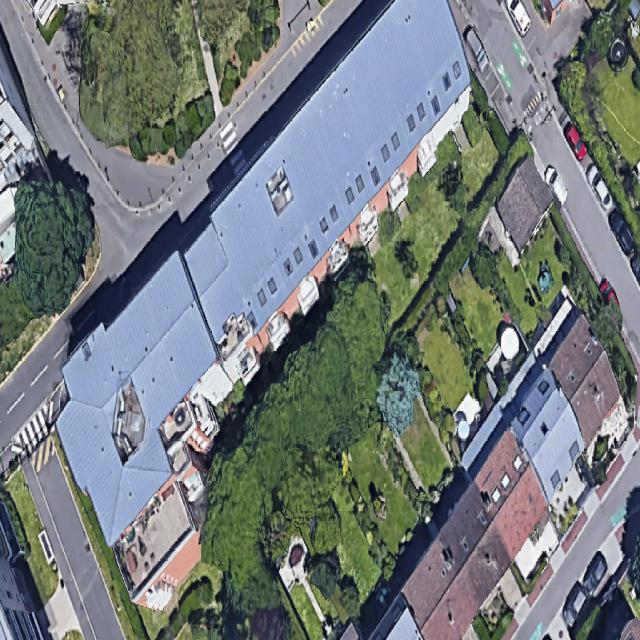immeuble: (140, 0, 513, 354), (9, 228, 245, 555)
maison: (375, 483, 536, 640), (486, 367, 609, 503), (457, 425, 568, 563), (538, 313, 632, 446)
